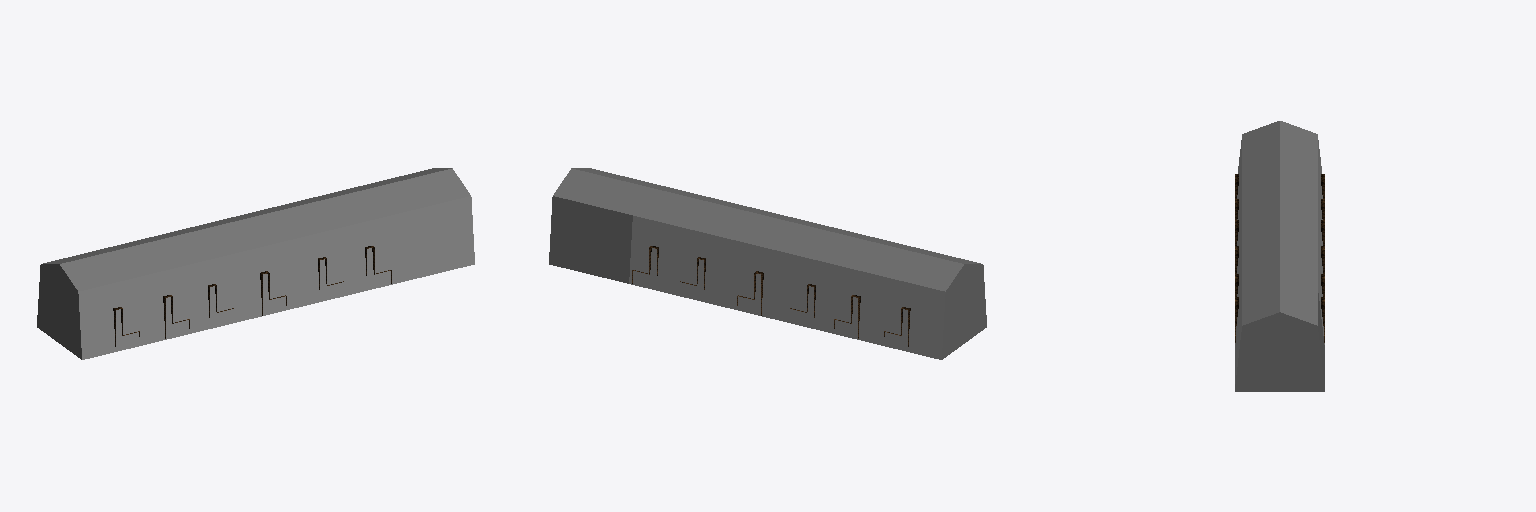
3 renders of one model, left to right at view 1: azimuth 30°, elevation 25°; view 2: azimuth 150°, elevation 25°; view 3: azimuth 270°, elevation 25°, orthographic.
Visible parts, largest first — view 1: plane2interior; view 2: plane2interior; view 3: plane2interior.
Boxes of the visible parts, x1,y1,x2,y2 form: plane2interior: [37, 168, 474, 359]; plane2interior: [549, 168, 986, 359]; plane2interior: [1235, 121, 1324, 391].
Bounding box in the file's own units: 1.5 × 0.2899 × 0.3.
Materials: 4 (2 with a texture image).